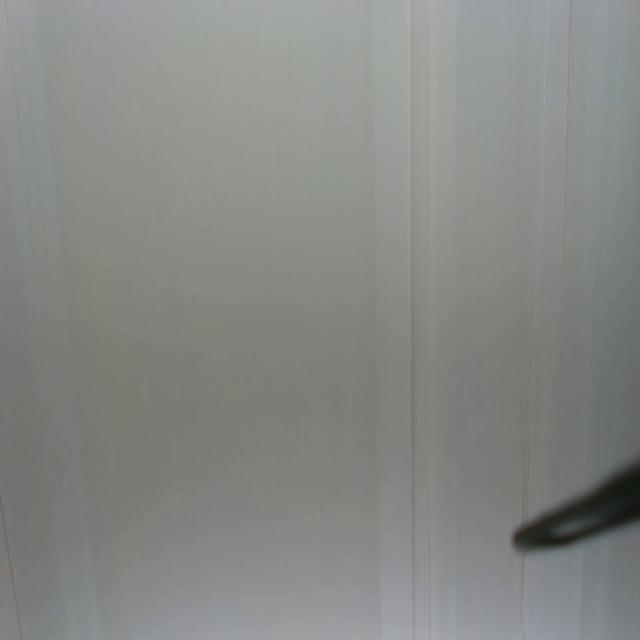crease: (522, 3, 551, 506), (4, 3, 35, 263), (425, 0, 434, 635), (409, 4, 417, 638), (559, 0, 573, 314), (0, 498, 22, 640), (56, 451, 73, 570), (518, 552, 526, 640)
